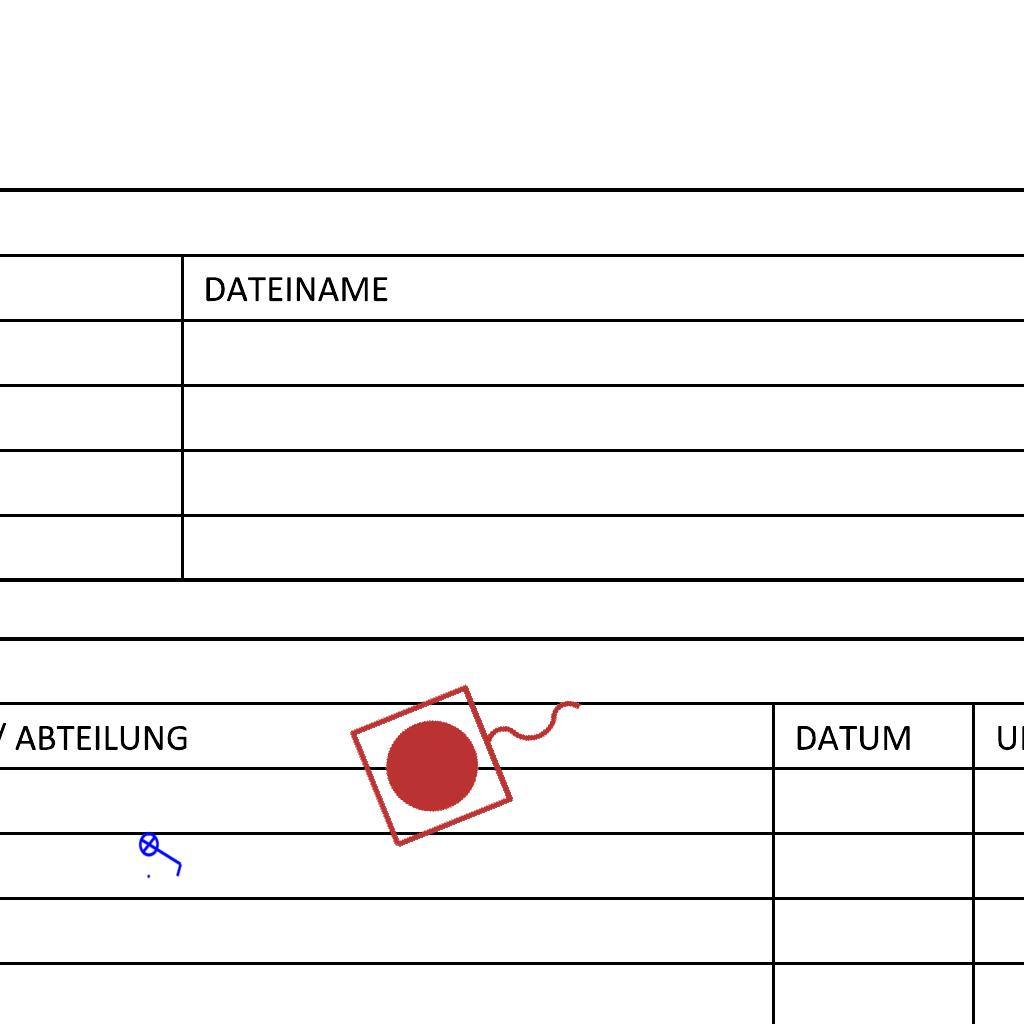Ausschalter_beleuchtet: (138, 825, 186, 881)
Zugtaster: (338, 636, 620, 862)
